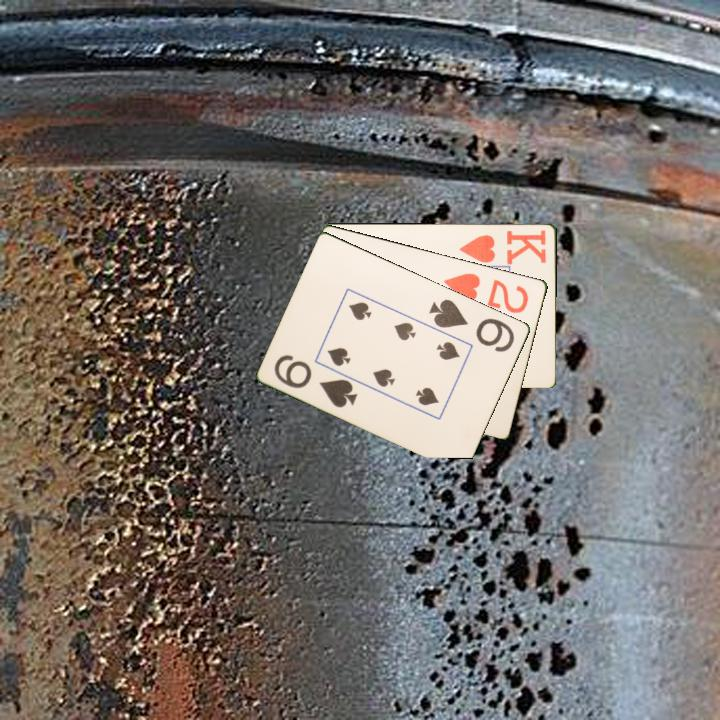2h: (440, 269, 532, 316)
6s: (426, 295, 518, 355), (271, 351, 361, 411)
Kh: (456, 226, 549, 265)
